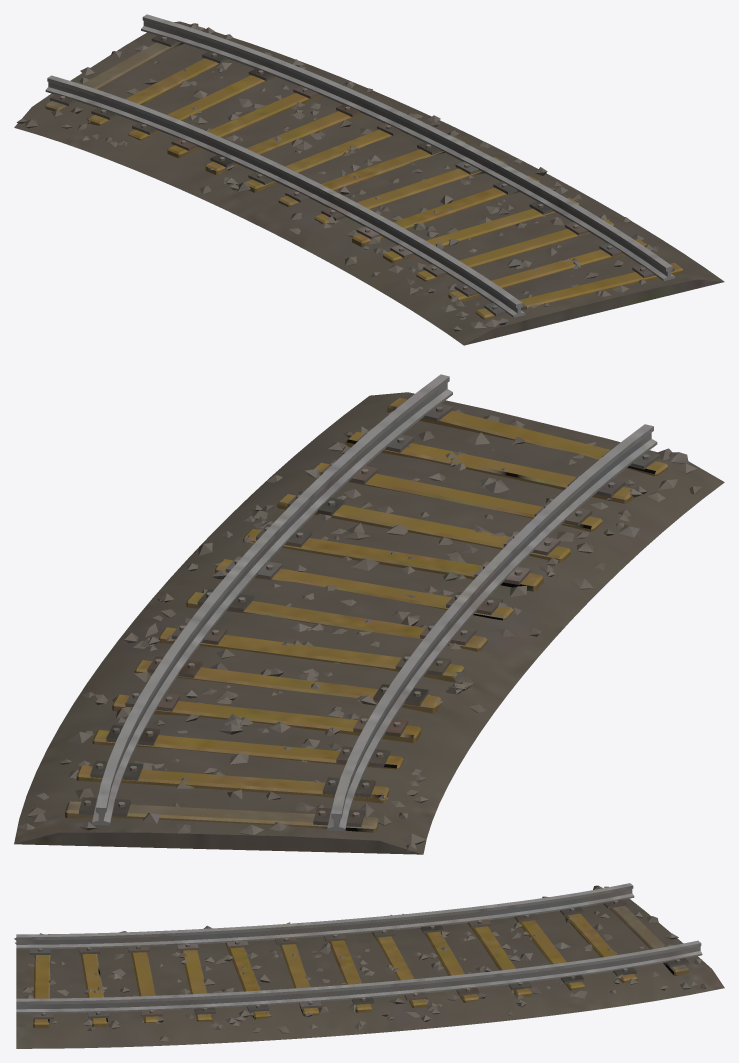
The model's file is curved-rail-a.glb.
3 views of the same model, one above another, from view 1: azimuth 30°, elevation 25°; view 2: azimuth 150°, elevation 25°; view 3: azimuth 270°, elevation 25° (orthographic). The views are drawn at different scales.
Visible parts, largest first — view 1: body; view 2: body; view 3: body.
Boxes of the visible parts, x1=… form: body: x1=14, y1=14, x2=724, y2=345; body: x1=14, y1=374, x2=724, y2=854; body: x1=14, y1=883, x2=724, y2=1048.
Size of the model in its own units: 2.93 by 0.2216 by 5.47.
1 material, 1 textured.
